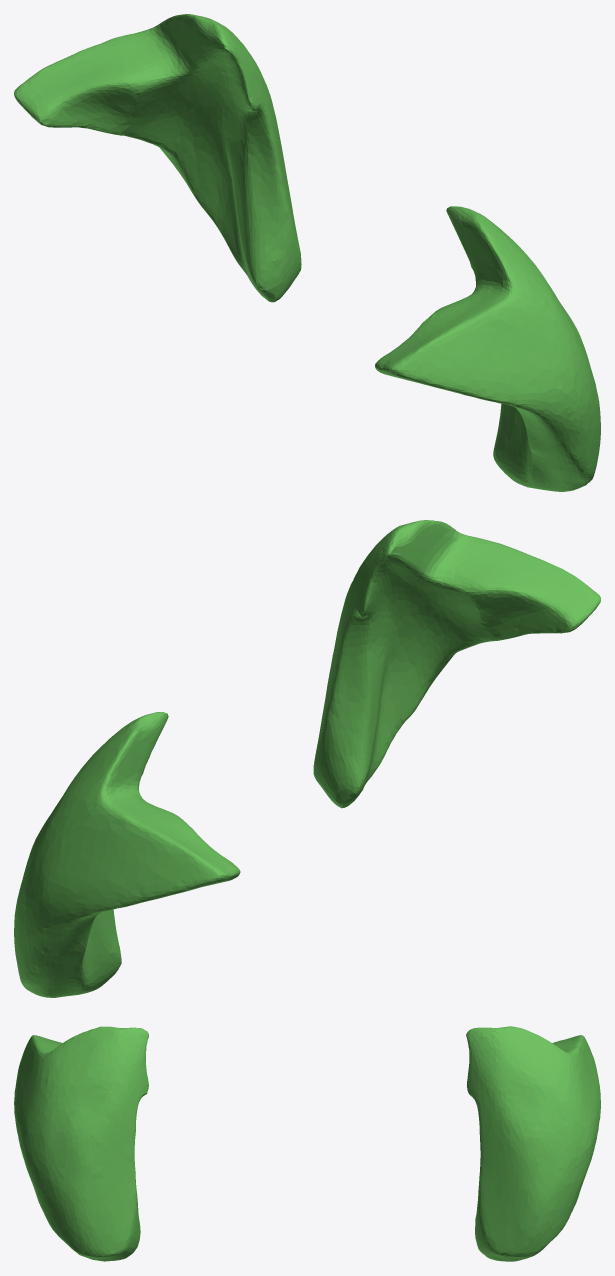
3 views of the same model, one above another, from view 1: azimuth 30°, elevation 25°; view 2: azimuth 150°, elevation 25°; view 3: azimuth 270°, elevation 25° (orthographic). The views are drawn at different scales.
Parts seen in each view (by area): view 1: 909.obj; view 2: 909.obj; view 3: 909.obj.
Part boxes in pixels (bbox=[...]): 909.obj: bbox=[14, 14, 600, 491]; 909.obj: bbox=[14, 520, 600, 997]; 909.obj: bbox=[14, 1026, 600, 1261].
Size of the model in its own units: 3412 by 3987 by 10116.
